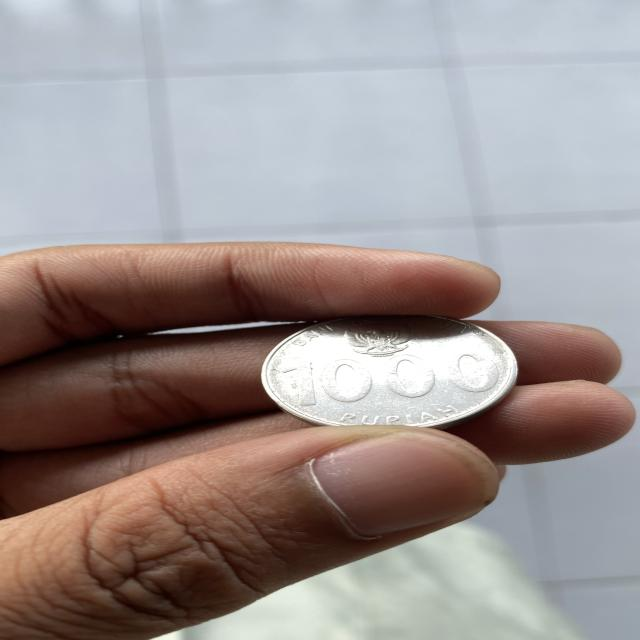1000-angklung: (254, 298, 540, 442)
